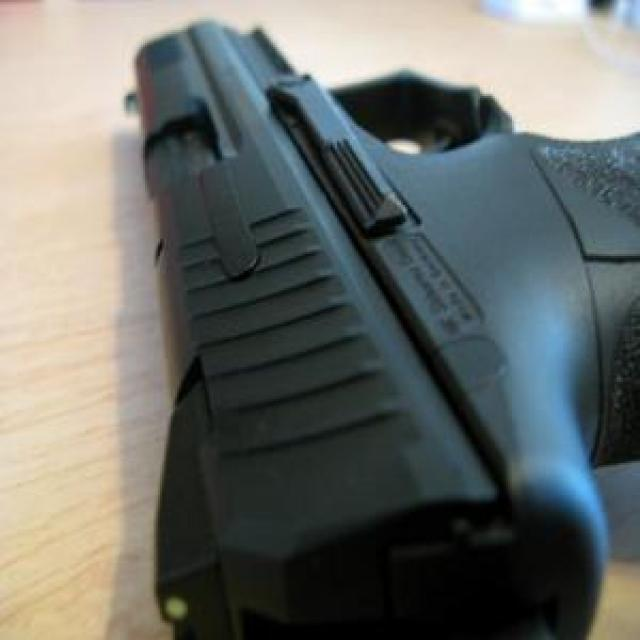pistol: (124, 23, 639, 637)
